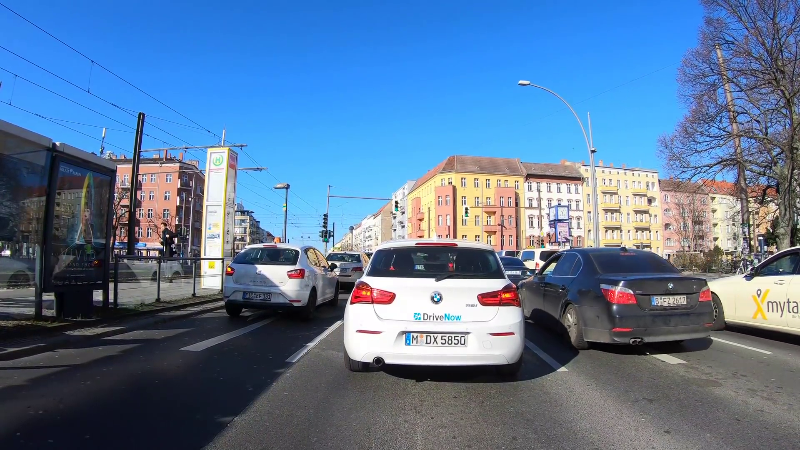Plate: (403, 329, 468, 346), (647, 294, 688, 307), (239, 289, 273, 302), (333, 265, 351, 274), (506, 269, 521, 276)
